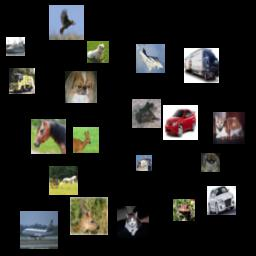airplane: (20, 211, 58, 249), (136, 44, 165, 73)
automobile: (163, 105, 198, 140), (207, 186, 236, 215)
bird: (49, 5, 84, 40)
cat: (117, 206, 149, 238), (213, 112, 245, 144)
deer: (70, 197, 108, 235), (73, 127, 99, 153)
dog: (65, 71, 97, 103), (87, 41, 109, 63), (201, 153, 220, 172)
frog: (132, 99, 161, 128), (173, 199, 195, 221)
ship: (6, 37, 25, 56), (136, 155, 152, 171)
truck: (184, 48, 219, 83), (9, 68, 35, 94)
